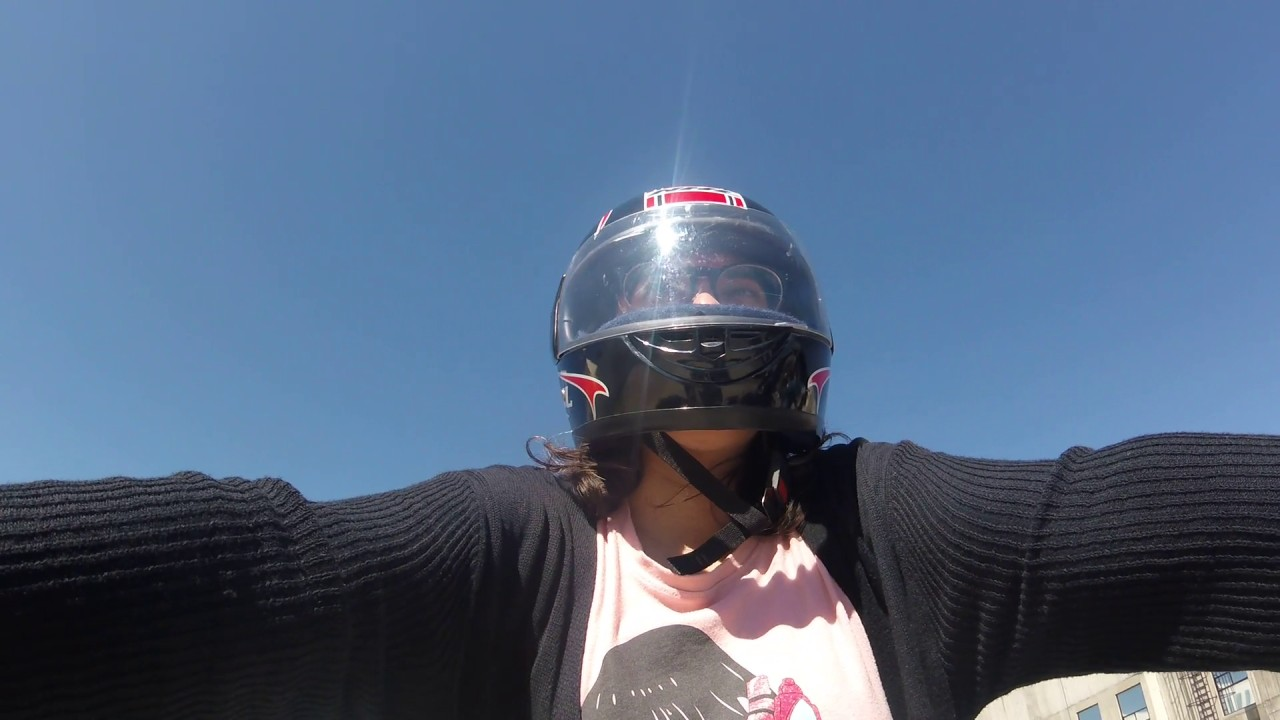With Helmet: (531, 174, 850, 526)
